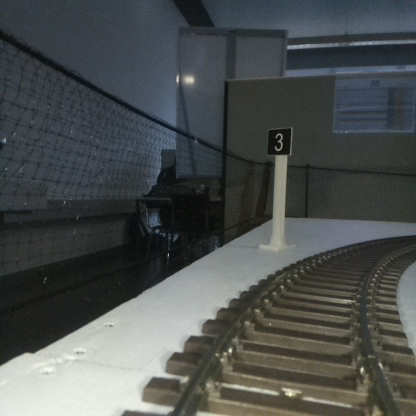black-info-3: (267, 128, 291, 247)
